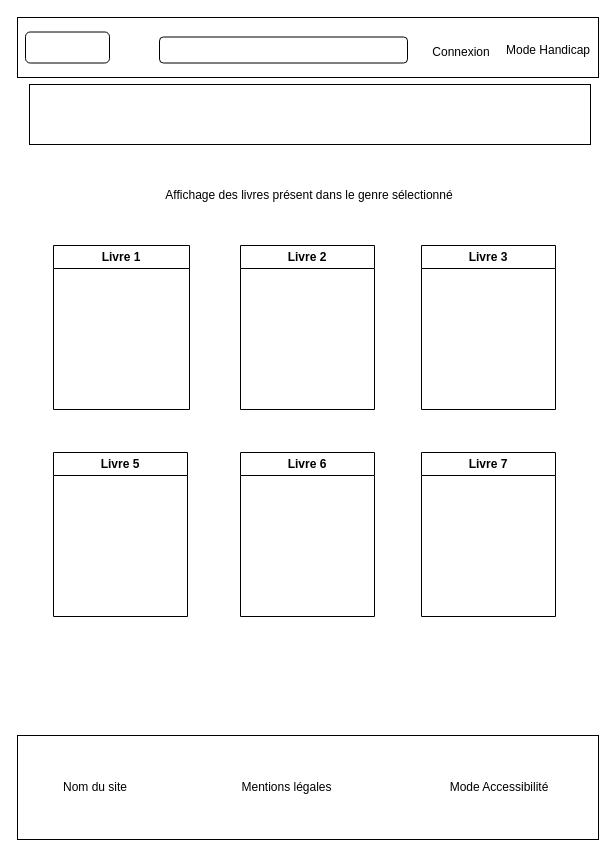
This 616x857 diagram has some shape labels left out. Each missing label, with the centre of its shape:
"Background : image qui rappel le genre sélectionné" belongs at point 309,114.
"Logo" belongs at point 67,47.
"Moteur de recherche" belongs at point 283,49.
